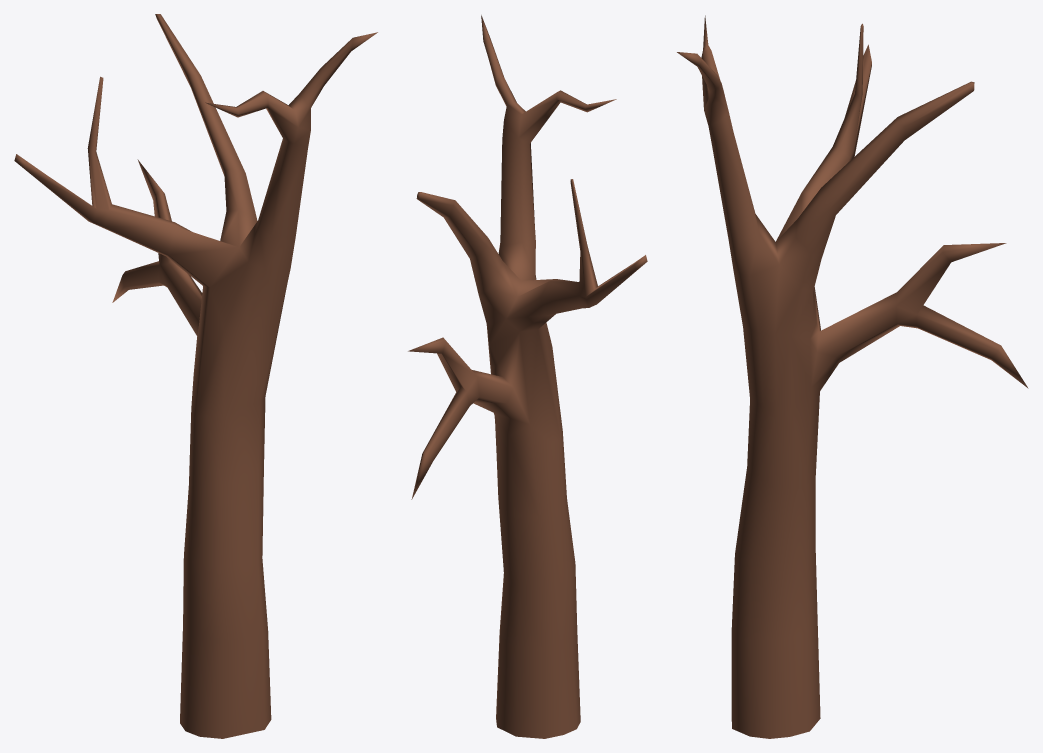
File: Arvore_2.fbx
3 views of the same model, side by side, from view 1: azimuth 30°, elevation 25°; view 2: azimuth 150°, elevation 25°; view 3: azimuth 270°, elevation 25° (orthographic). The views are drawn at different scales.
Visible parts, largest first — view 1: Arvore_2; view 2: Arvore_2; view 3: Arvore_2.
Boxes of the visible parts, bbox=[...] form: Arvore_2: bbox=[14, 14, 377, 738]; Arvore_2: bbox=[408, 15, 647, 738]; Arvore_2: bbox=[677, 15, 1028, 738].
Size of the model in its own units: 3.22 by 2.96 by 7.26.
